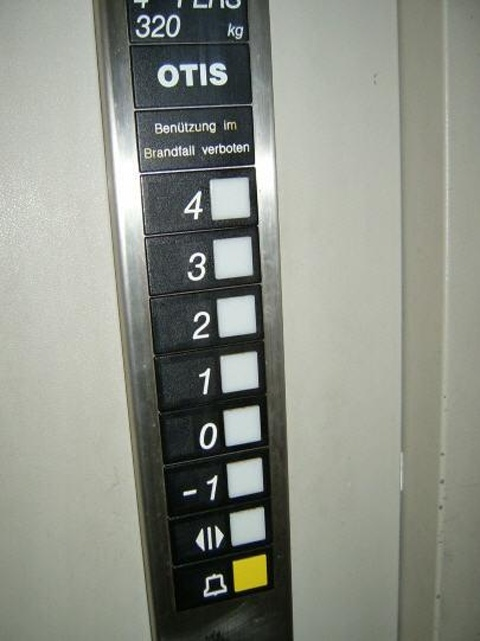-1: (161, 444, 272, 519)
0: (155, 391, 269, 467)
1: (151, 336, 267, 414)
2: (145, 282, 267, 356)
3: (139, 223, 266, 298)
4: (136, 162, 261, 238)
alarm: (168, 539, 276, 614)
open: (164, 494, 273, 569)
